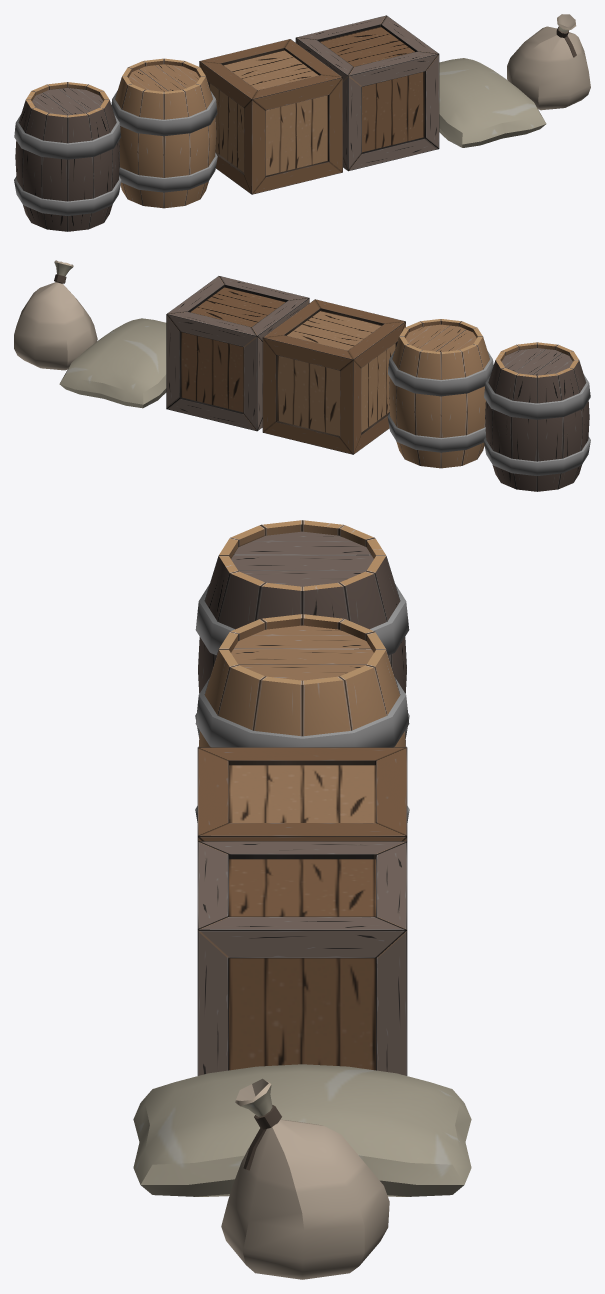
File: MedievalProps_Minipack_1.fbx
The picture shows the model from 3 angles, top to bottom: view 1: azimuth 30°, elevation 25°; view 2: azimuth 150°, elevation 25°; view 3: azimuth 270°, elevation 25°; orthographic projection. The views are drawn at different scales.
Parts seen in each view (by area): view 1: props_crate_01, props_crate_02, props_barrel_02, props_barrel_01, props_sack_01, props_sack_02; view 2: props_crate_01, props_crate_02, props_barrel_02, props_barrel_01, props_sack_01, props_sack_02; view 3: props_crate_02, props_sack_01, props_barrel_01, props_sack_02, props_crate_01, props_barrel_02.
Boxes of the visible parts, box(x1,y1,x2,y2) form: props_crate_01: box(199, 39, 342, 194); props_crate_02: box(295, 15, 439, 171); props_barrel_02: box(14, 82, 121, 231); props_barrel_01: box(111, 58, 217, 208); props_sack_01: box(439, 58, 546, 147); props_sack_02: box(507, 14, 590, 110); props_crate_01: box(262, 299, 405, 454); props_crate_02: box(166, 276, 309, 431); props_barrel_02: box(483, 342, 590, 491); props_barrel_01: box(387, 319, 493, 468); props_sack_01: box(59, 318, 166, 408); props_sack_02: box(14, 260, 97, 370); props_crate_02: box(197, 841, 407, 1075); props_sack_01: box(133, 1064, 471, 1196); props_barrel_01: box(195, 614, 409, 822); props_sack_02: box(221, 1078, 389, 1279); props_crate_01: box(197, 747, 407, 841); props_barrel_02: box(195, 520, 409, 738).
Size of the model in its own units: 5.28 by 1.02 by 1.37.
Materials: 1 (1 with a texture image).
